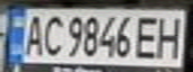4: (100, 12, 121, 59)
6: (115, 12, 139, 60)
8: (81, 12, 100, 59)
9: (63, 12, 84, 57)
A: (21, 11, 48, 57)
C: (39, 11, 66, 57)
E: (133, 12, 163, 60)
H: (151, 12, 187, 60)
